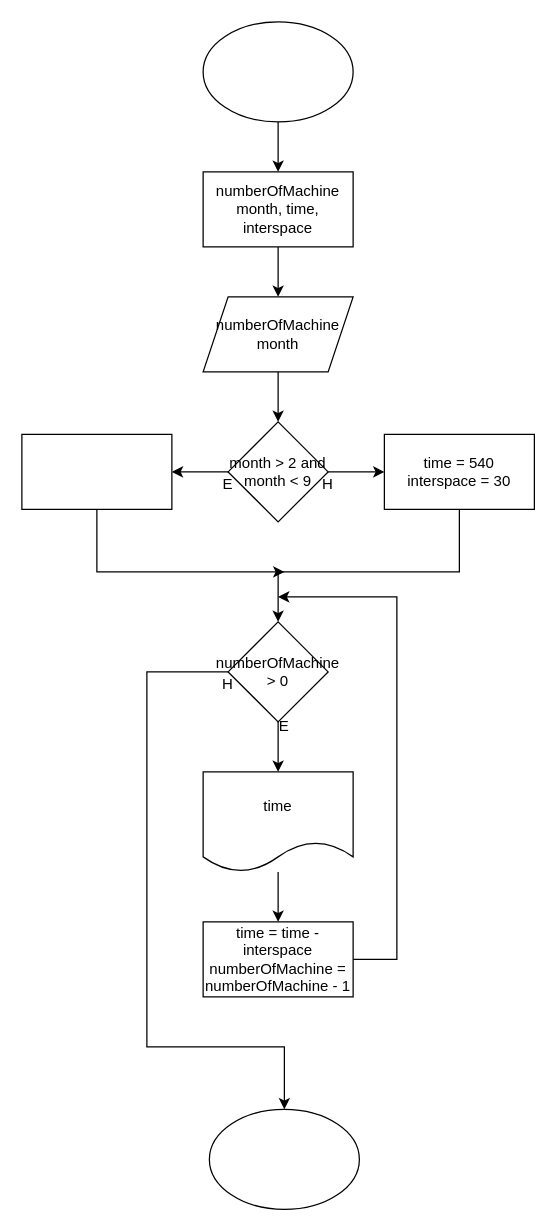
Image size: 556x1231. Some labels were removed from this diagram. Each missing label, with the box of its shape:
START: (202, 21, 353, 122)
STOP: (208, 1108, 359, 1209)
time = 480 interspace = 45: (21, 433, 172, 509)
